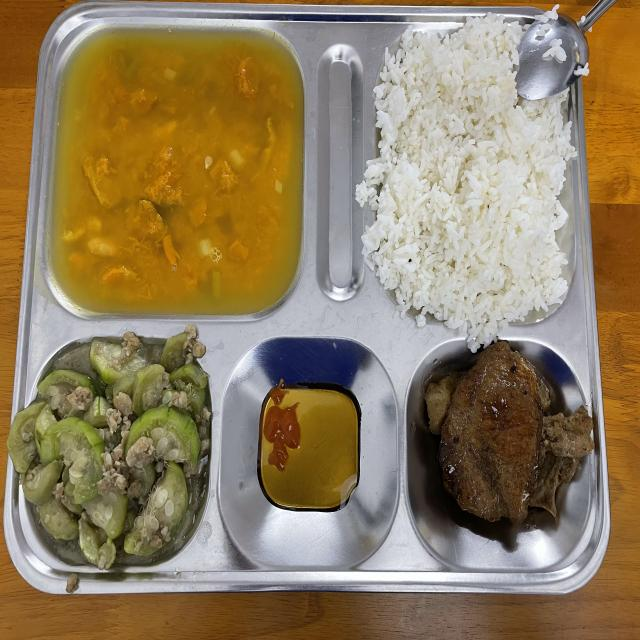com_trang: (394, 34, 561, 310)
